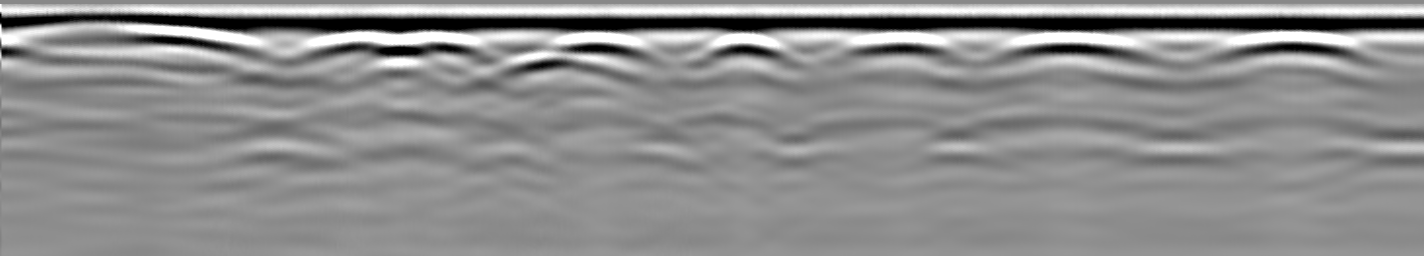pipe: (10, 13, 265, 59)
steel: (510, 30, 666, 78), (298, 32, 497, 69), (1186, 31, 1383, 68), (986, 32, 1167, 66), (686, 31, 812, 79), (826, 32, 958, 58)
